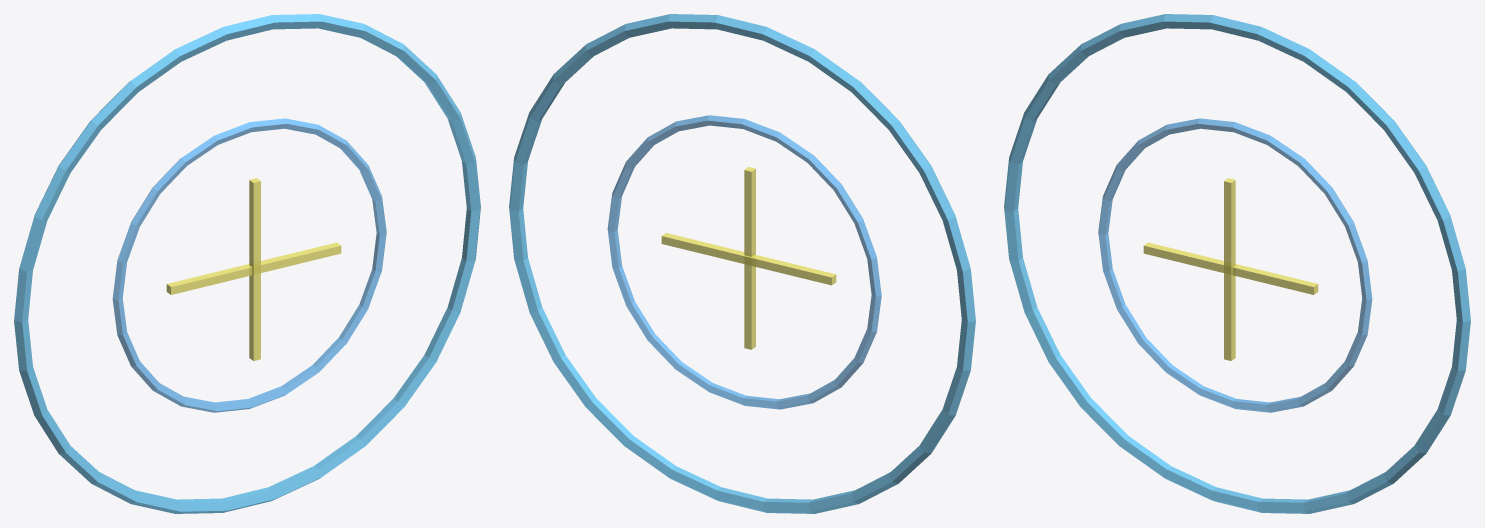
File: vfx_emp_pulse_ring.glb
3 views of the same model, side by side, from view 1: azimuth 30°, elevation 25°; view 2: azimuth 150°, elevation 25°; view 3: azimuth 330°, elevation 25° (orthographic).
Parts seen in each view (by area): view 1: outer, inner, line_b, line_a; view 2: outer, inner, line_a, line_b; view 3: outer, inner, line_b, line_a.
Part boxes in pixels (x1,y1,x2,y2): outer: (14,14,480,513); inner: (112,118,386,412); line_b: (249,178,260,360); line_a: (166,242,341,294); outer: (509,14,975,513); inner: (607,115,881,409); line_a: (661,233,836,285); line_b: (744,167,755,349); outer: (1004,14,1470,513); inner: (1098,118,1372,412); line_b: (1224,178,1235,360); line_a: (1143,242,1318,294).
Bounding box in the file's own units: 2.47 × 2.46 × 0.1233.
